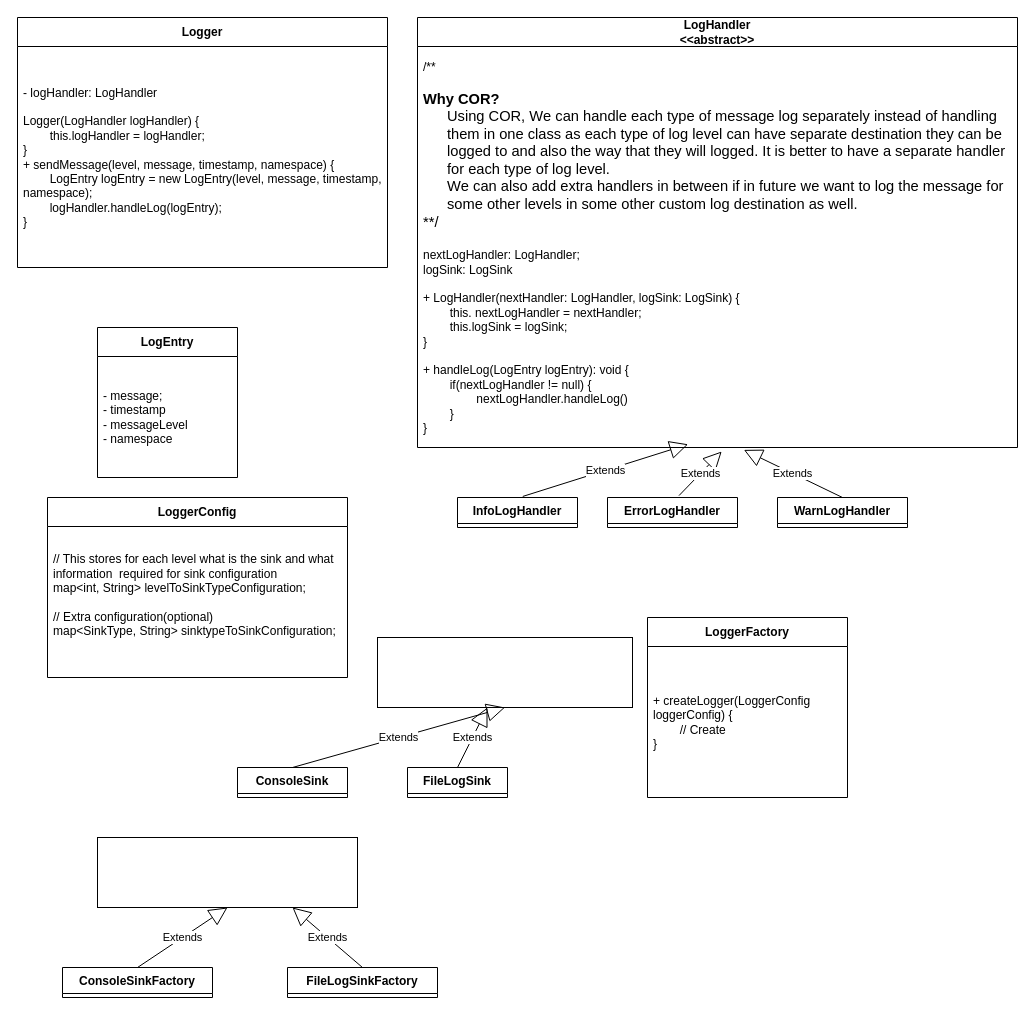
This 1035x1015 diagram has some shape labels left out. The centre of each missing label's shape, as x and y in pixels:
<<Interface>> Sink + logMessage(LogEntry): void;: (x=504, y=672)
<<Interface>> SinkFactory + createSink(String sinkConfiguration): Sink: (x=227, y=872)
